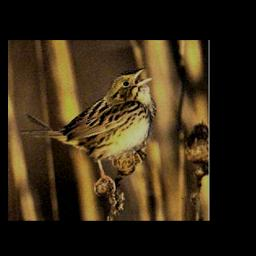Sparrow: (17, 66, 155, 195)
